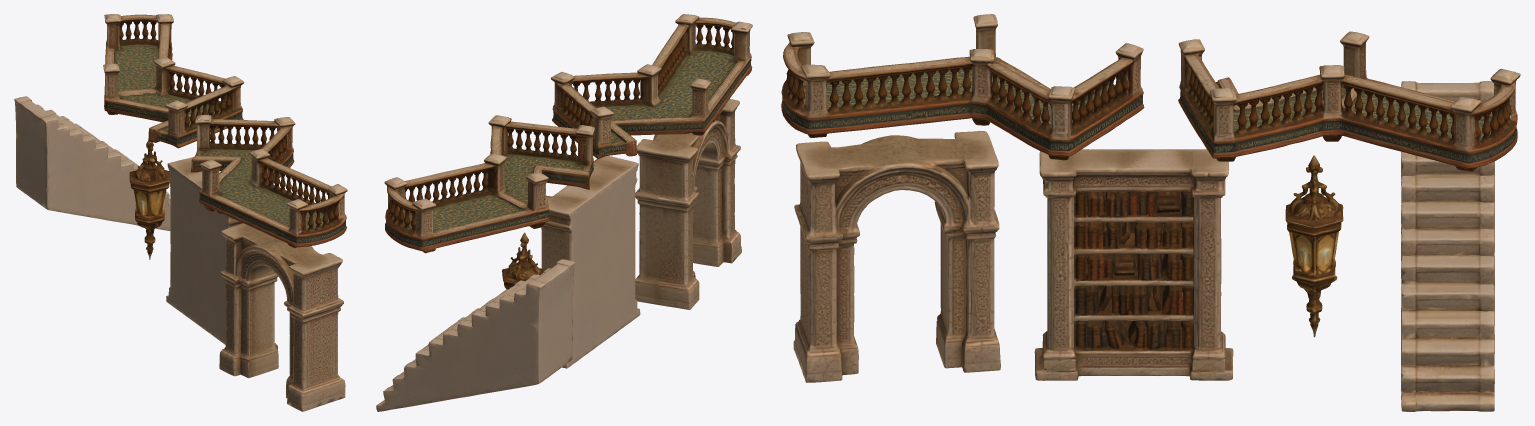
File: المكتبة الكبرى l1 2.glb
3 views of the same model, side by side, from view 1: azimuth 30°, elevation 25°; view 2: azimuth 150°, elevation 25°; view 3: azimuth 270°, elevation 25° (orthographic). The views are drawn at different scales.
Visible parts, largest first — view 1: world; view 2: world; view 3: world.
Boxes of the visible parts, <box> form: world: <box>14,14,347,411</box>; world: <box>376,14,752,411</box>; world: <box>781,14,1520,411</box>.
Size of the model in its own units: 0.3482 by 0.4678 by 0.9997.
Materials: 1 (1 with a texture image).
